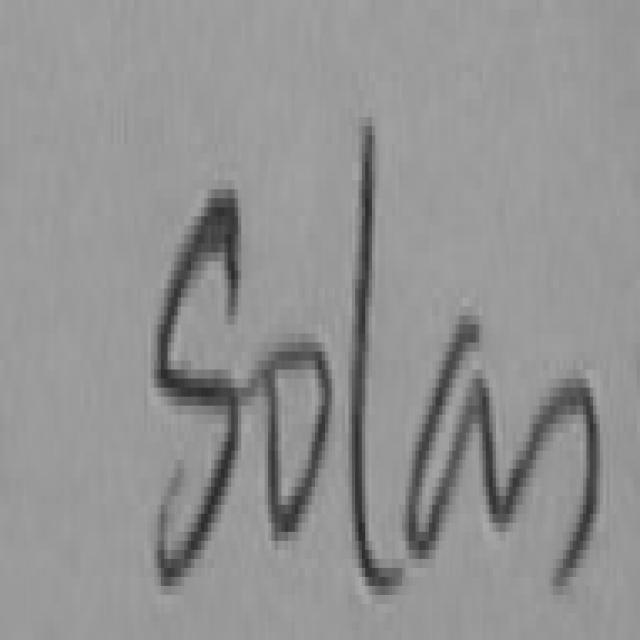S: (142, 137, 253, 604)
a: (402, 244, 506, 600)
l: (342, 84, 406, 621)
o: (258, 298, 334, 568)
s: (506, 333, 608, 602)
